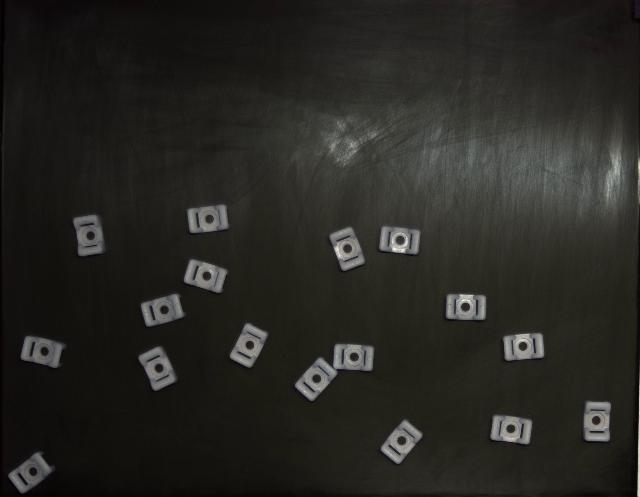first_side: (9, 452, 55, 494), (380, 420, 422, 465), (295, 358, 338, 401), (139, 346, 178, 391), (230, 324, 268, 368), (184, 260, 229, 294), (20, 336, 66, 369), (330, 228, 365, 271), (141, 294, 185, 328), (72, 215, 105, 258), (490, 415, 532, 445), (188, 205, 230, 234), (379, 226, 421, 255), (332, 344, 374, 372), (502, 334, 545, 361), (584, 401, 611, 442), (446, 294, 486, 321)
